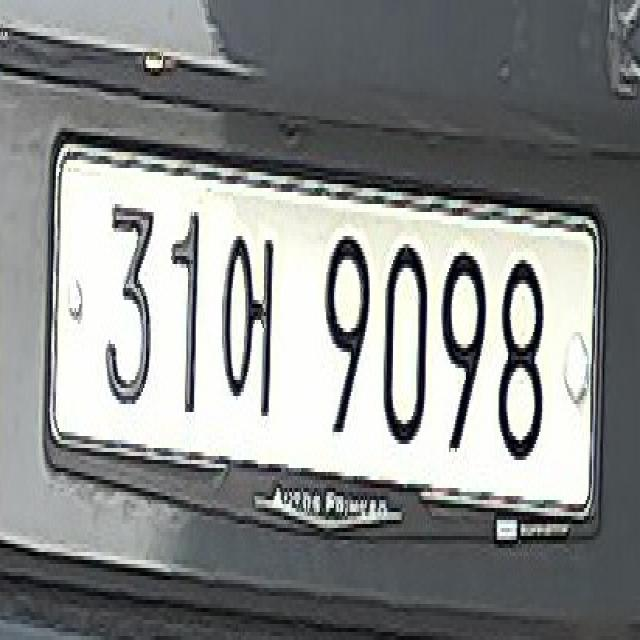0: (382, 236, 429, 456)
1: (168, 204, 205, 420)
3: (106, 192, 155, 408)
8: (496, 248, 545, 468)
9: (438, 240, 488, 456), (323, 224, 371, 436)
eo: (219, 224, 280, 424)
license_plate: (48, 136, 601, 516)
